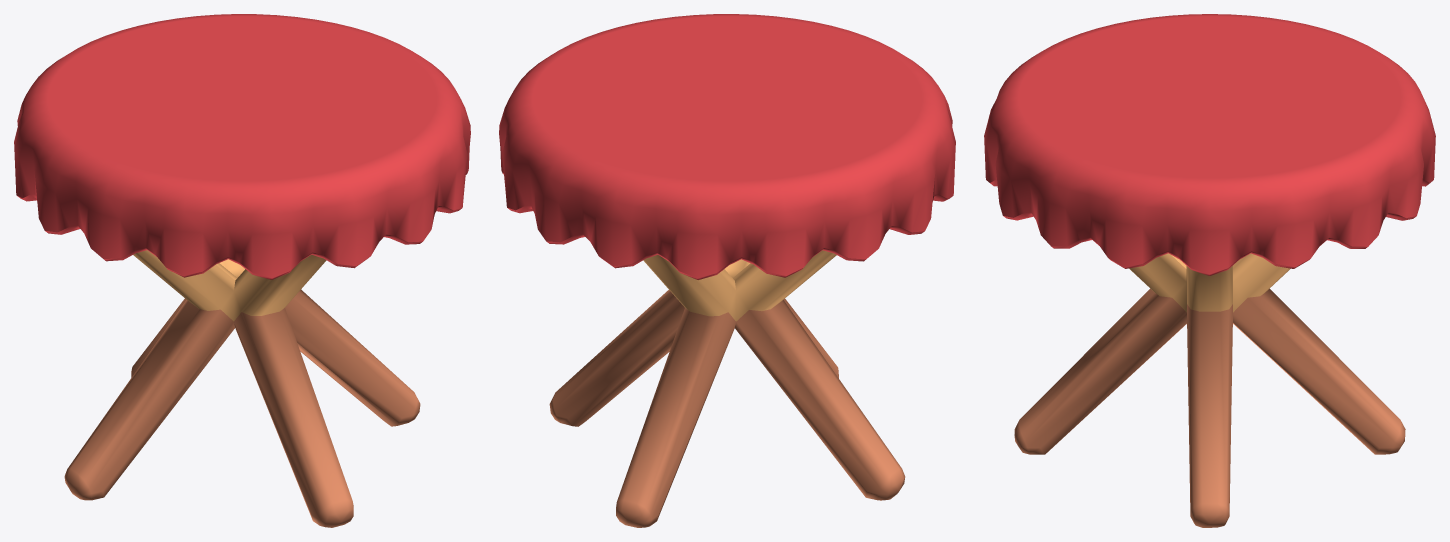
Rendered from mesa_redonda_toalha_campestre_pacote.glb.
3 renders of one model, left to right at view 1: azimuth 30°, elevation 25°; view 2: azimuth 150°, elevation 25°; view 3: azimuth 270°, elevation 25°, orthographic.
Parts seen in each view (by area): view 1: mesa_redonda_toalha_campestre_pacote; view 2: mesa_redonda_toalha_campestre_pacote; view 3: mesa_redonda_toalha_campestre_pacote.
Boxes of the visible parts, <box> form: mesa_redonda_toalha_campestre_pacote: <box>14,14,470,527</box>; mesa_redonda_toalha_campestre_pacote: <box>499,14,955,527</box>; mesa_redonda_toalha_campestre_pacote: <box>984,14,1435,527</box>.
Size of the model in its own units: 0.8673 by 0.7498 by 0.8673.
Materials: 1 (1 with a texture image).
